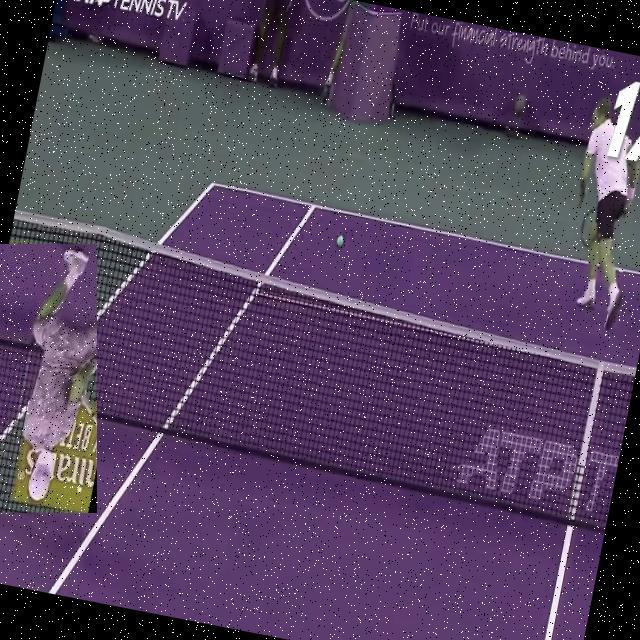player: (0, 244, 97, 513)
